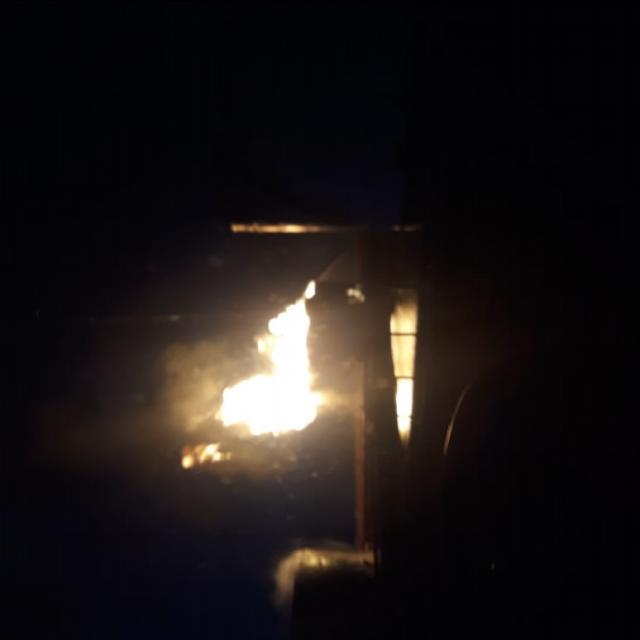Fire: (216, 300, 330, 436)
